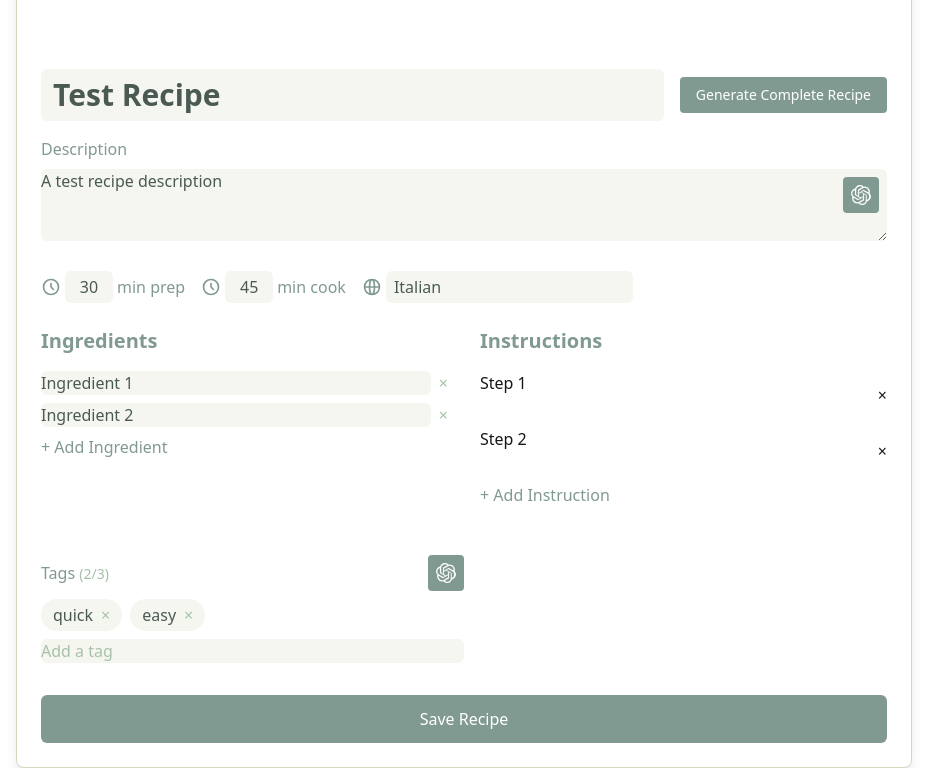
RecipeForm › handles tag management in edit mode
(page scrolled)
Check: the text "quick" is shown, box [53,604,93,626]
Check: the text "easy" is shown, box [142,604,176,626]
# Remove a tag
Click the button "×" next to "easy": [189, 615] box [184,603,193,627]
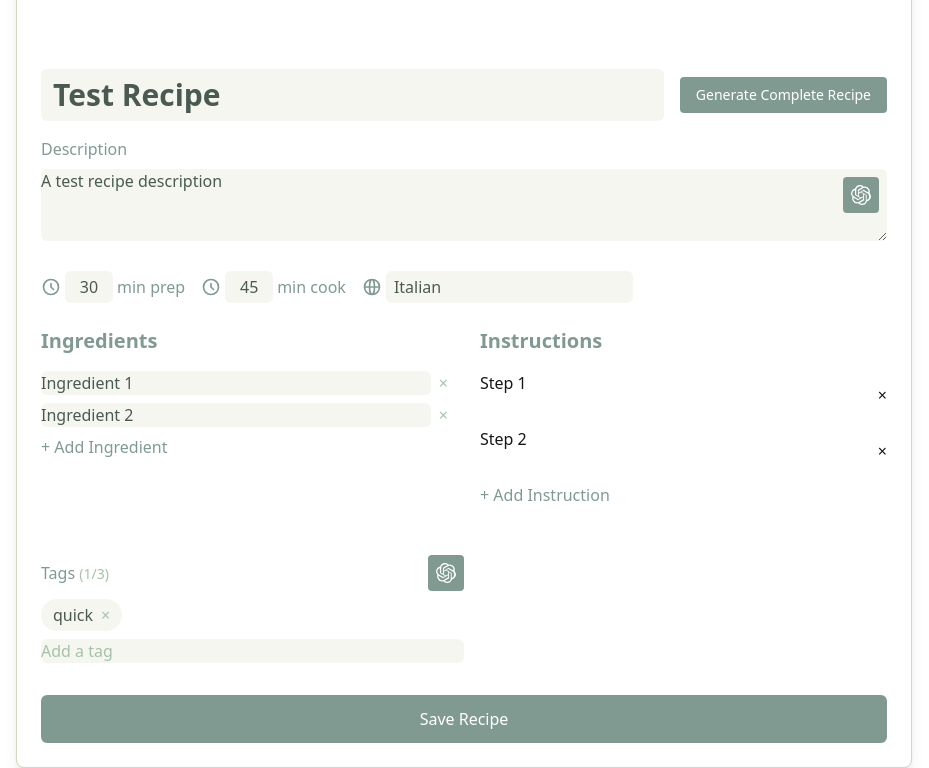
Check: the text "easy" is gone
# Add a new tag
Press Enter in the field with placeholder "Add a tag", box [41,639,464,663]
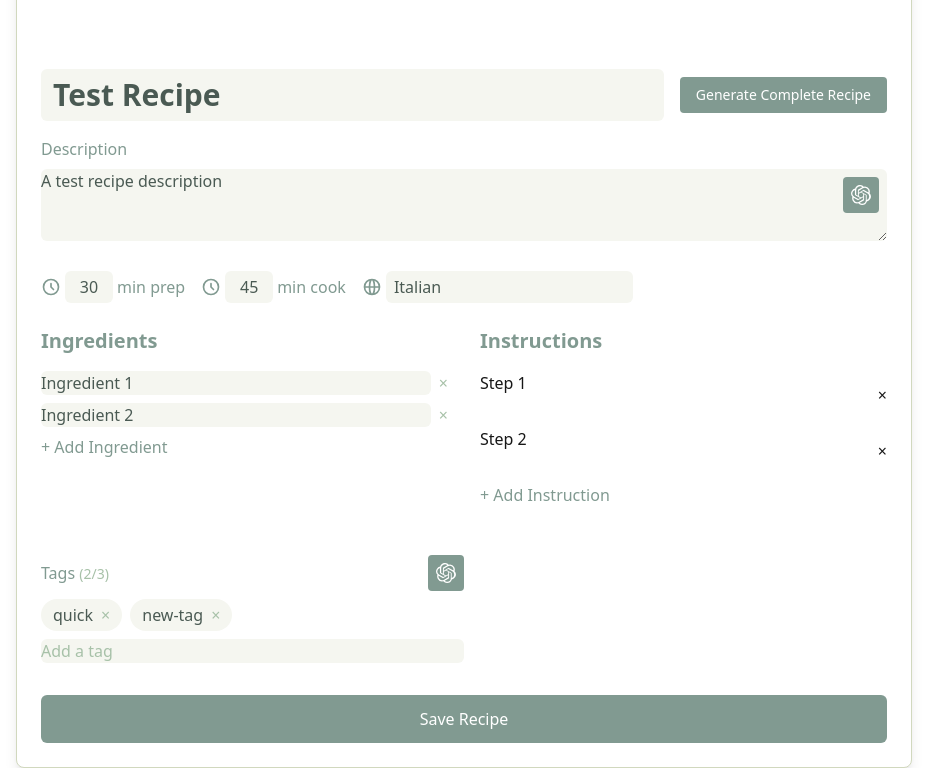
Check: the text "new-tag" is shown, box [142,604,203,626]
